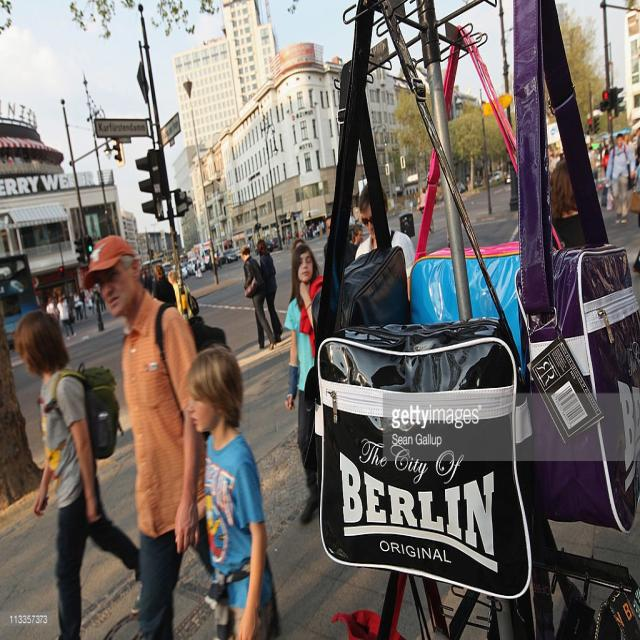body: (76, 229, 233, 639), (242, 115, 640, 257), (14, 308, 142, 639), (184, 342, 284, 639), (40, 233, 222, 318), (282, 243, 324, 526), (354, 181, 417, 301), (239, 243, 277, 351), (604, 131, 636, 226), (256, 238, 284, 344), (56, 293, 78, 342), (88, 284, 107, 333), (45, 296, 57, 341), (78, 285, 88, 319), (195, 255, 203, 278), (308, 222, 314, 240)
